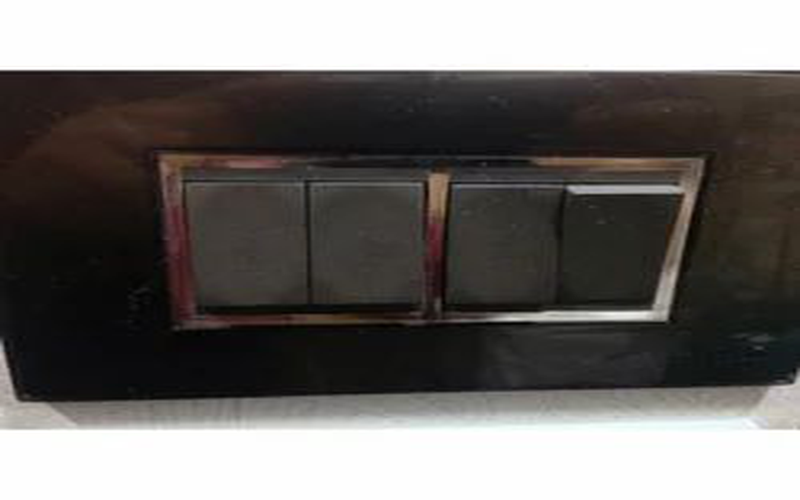Switches: (158, 144, 435, 333), (448, 154, 712, 339)
